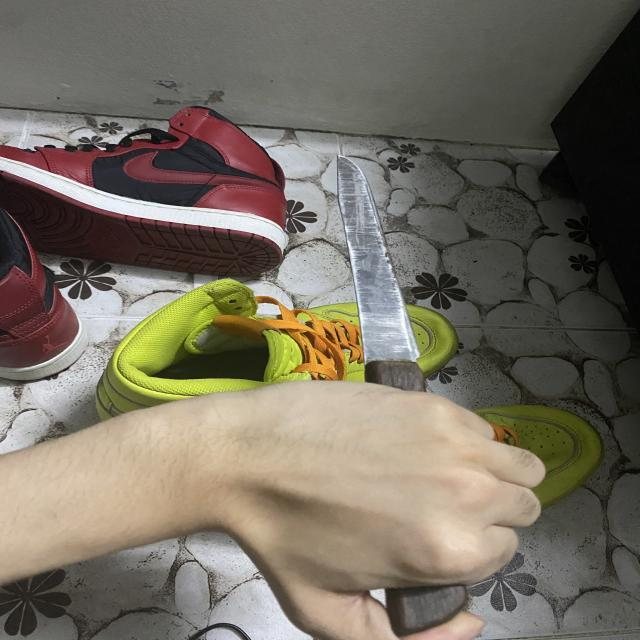faca: (278, 139, 544, 640)
